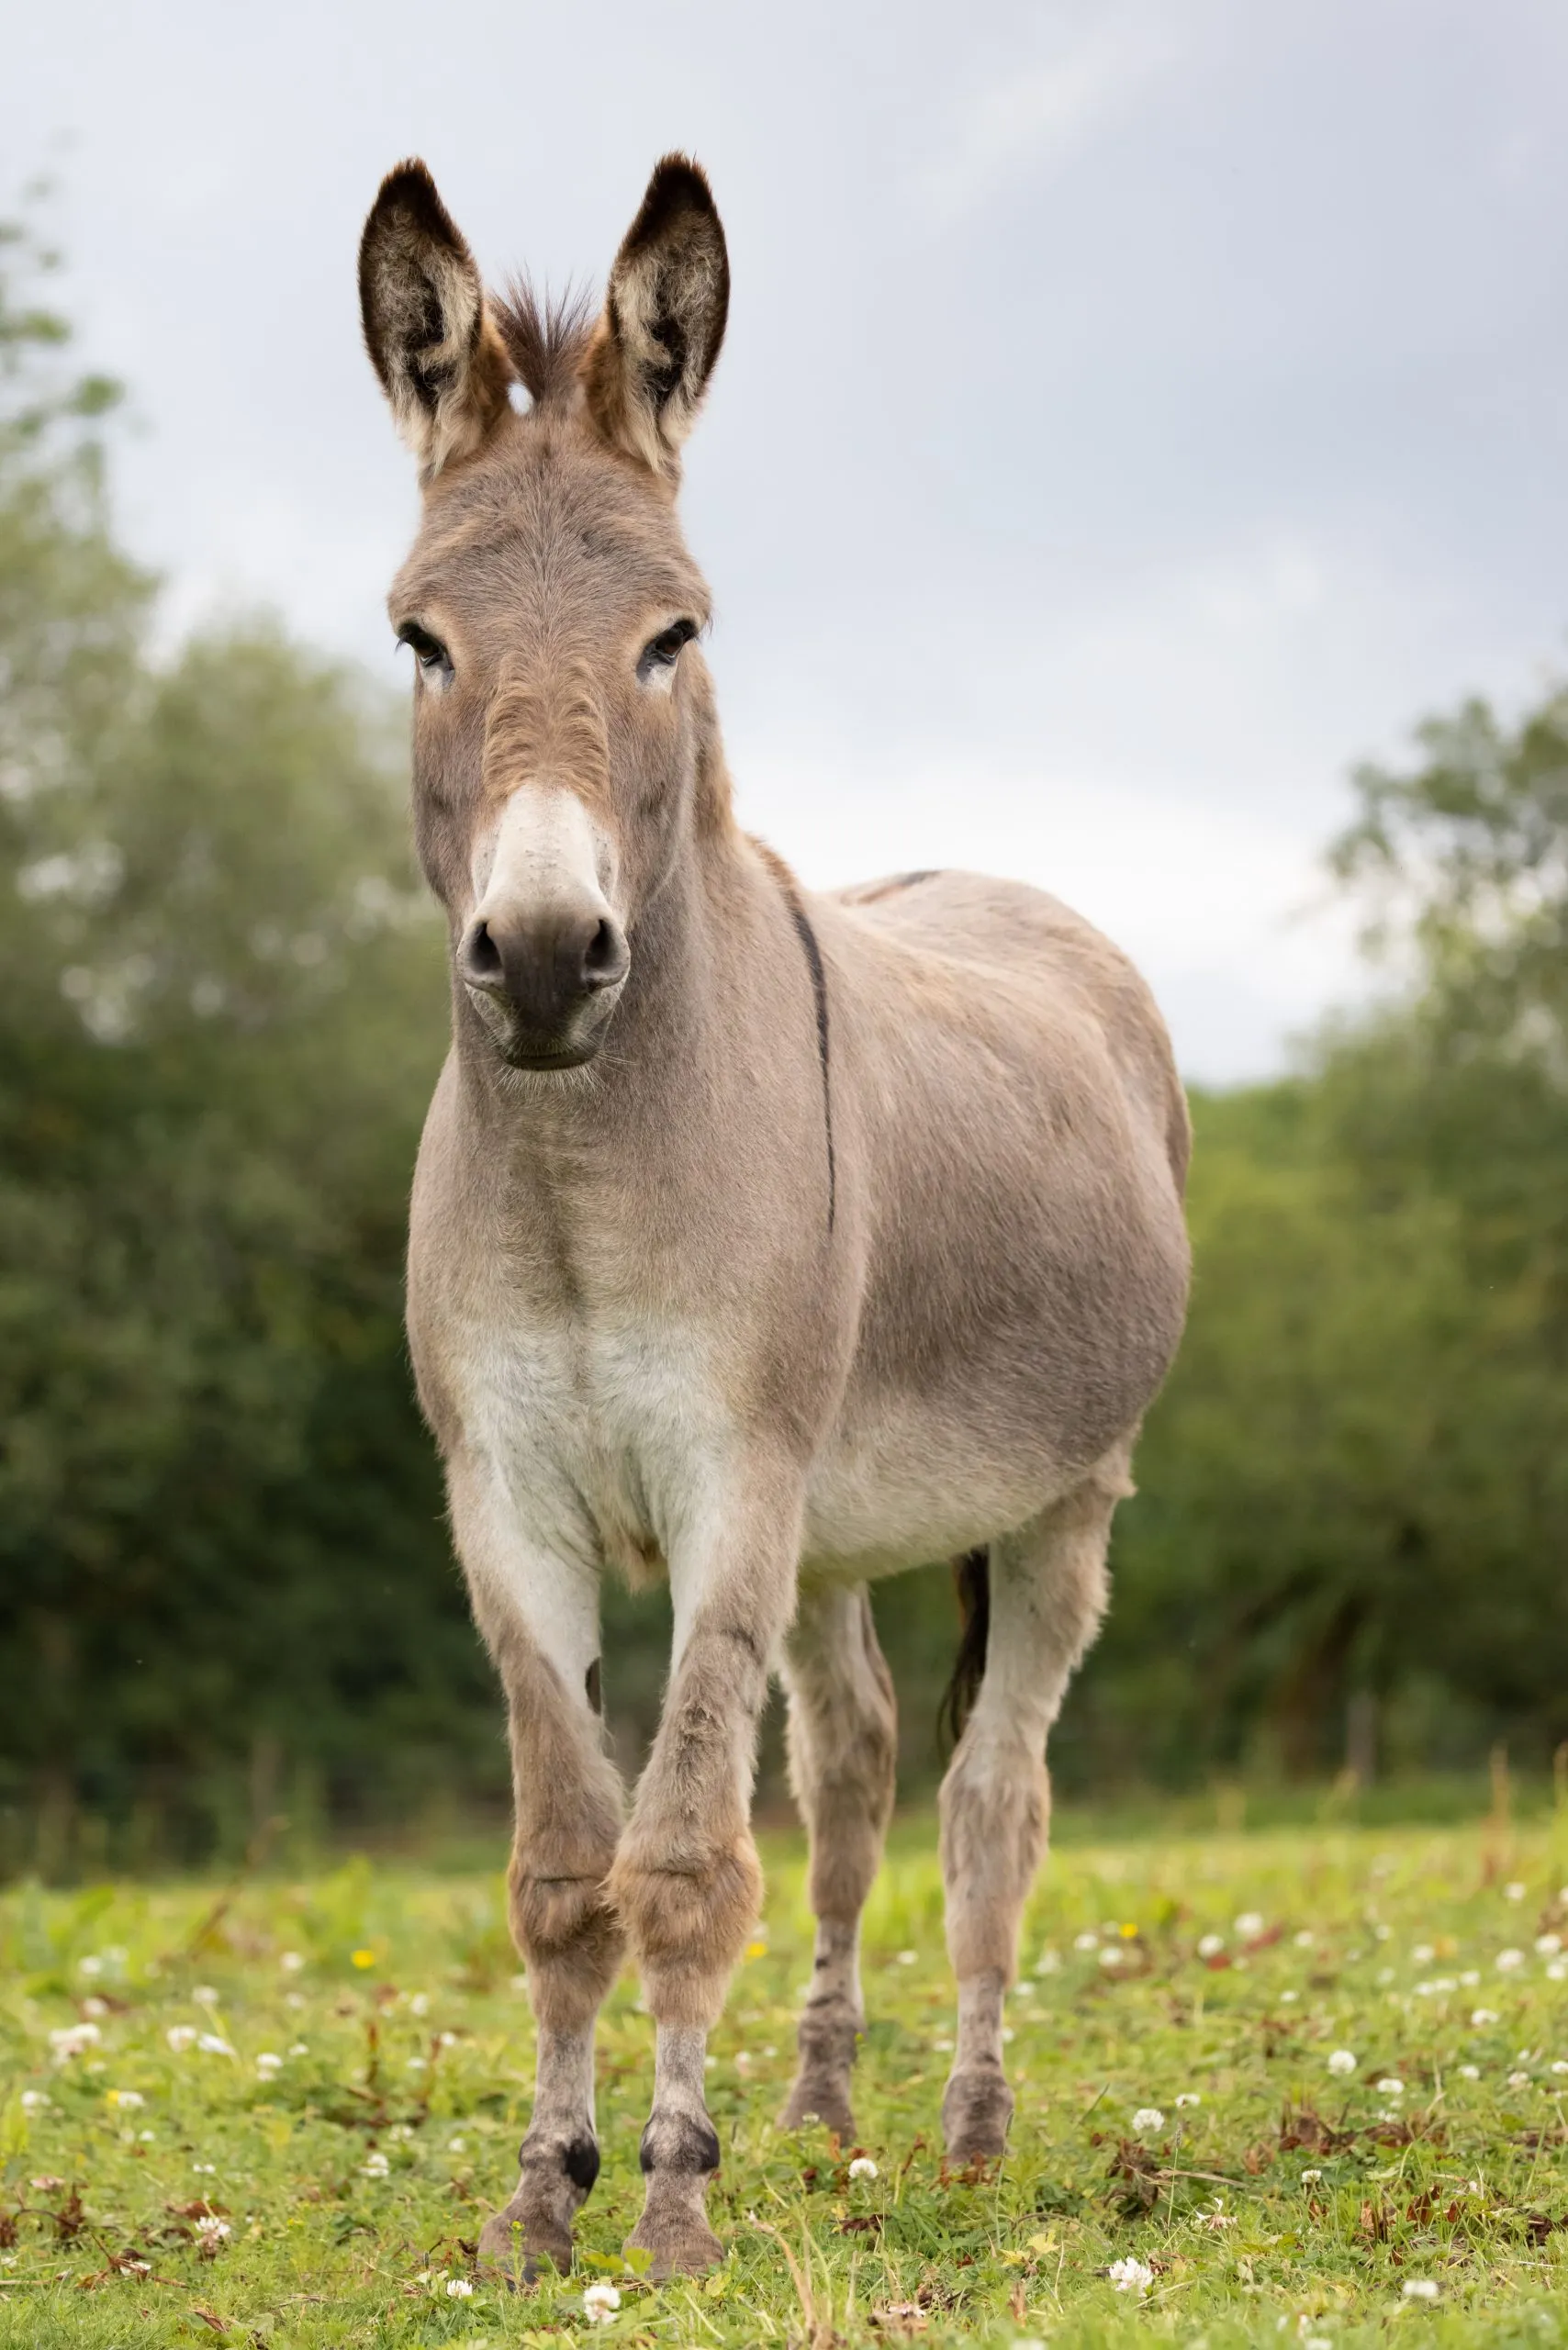donkey: (227, 143, 1218, 2291)
